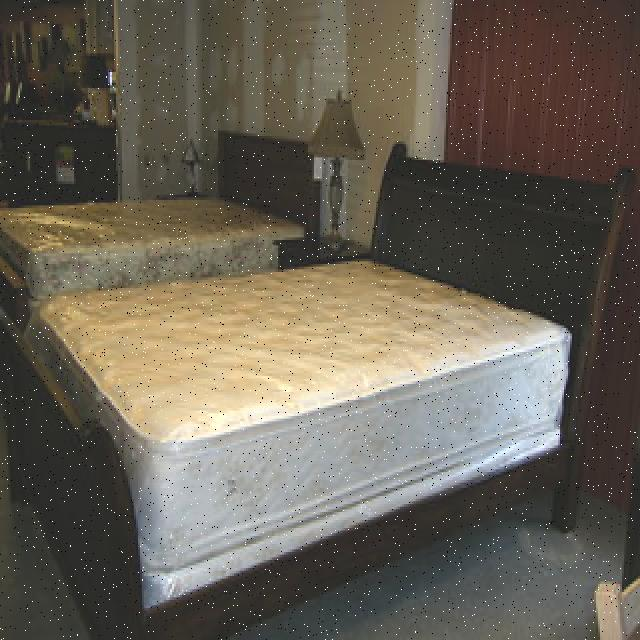bed: (45, 250, 565, 587), (12, 132, 310, 257)
